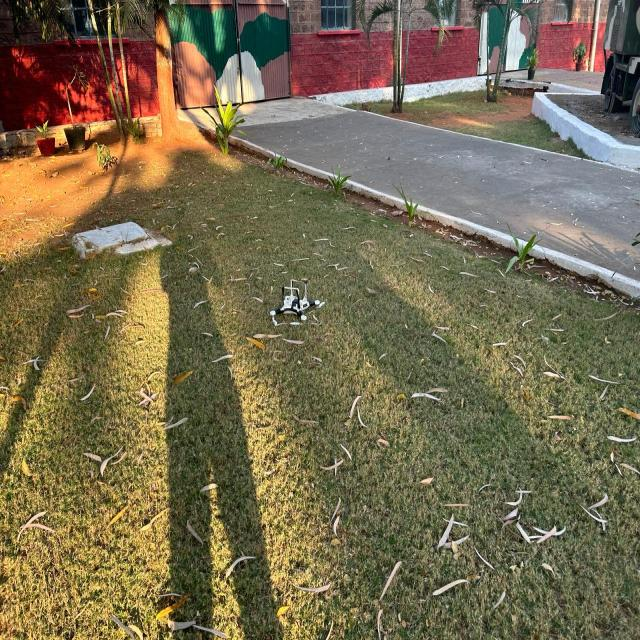drone: (263, 266, 331, 336)
